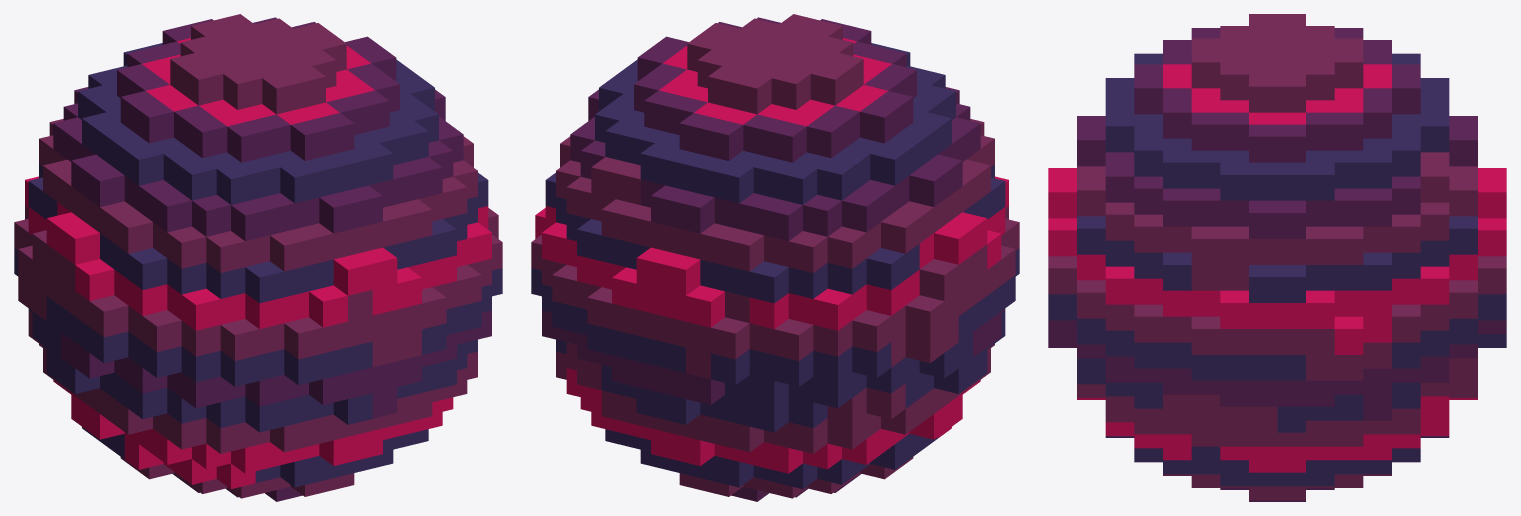
The model's file is planetas-16-rosalistrado2.obj.
3 renders of one model, left to right at view 1: azimuth 30°, elevation 25°; view 2: azimuth 150°, elevation 25°; view 3: azimuth 270°, elevation 25°, orthographic.
Bounding box in the file's own units: 1.6 × 1.6 × 1.6.
Materials: 1 (1 with a texture image).
